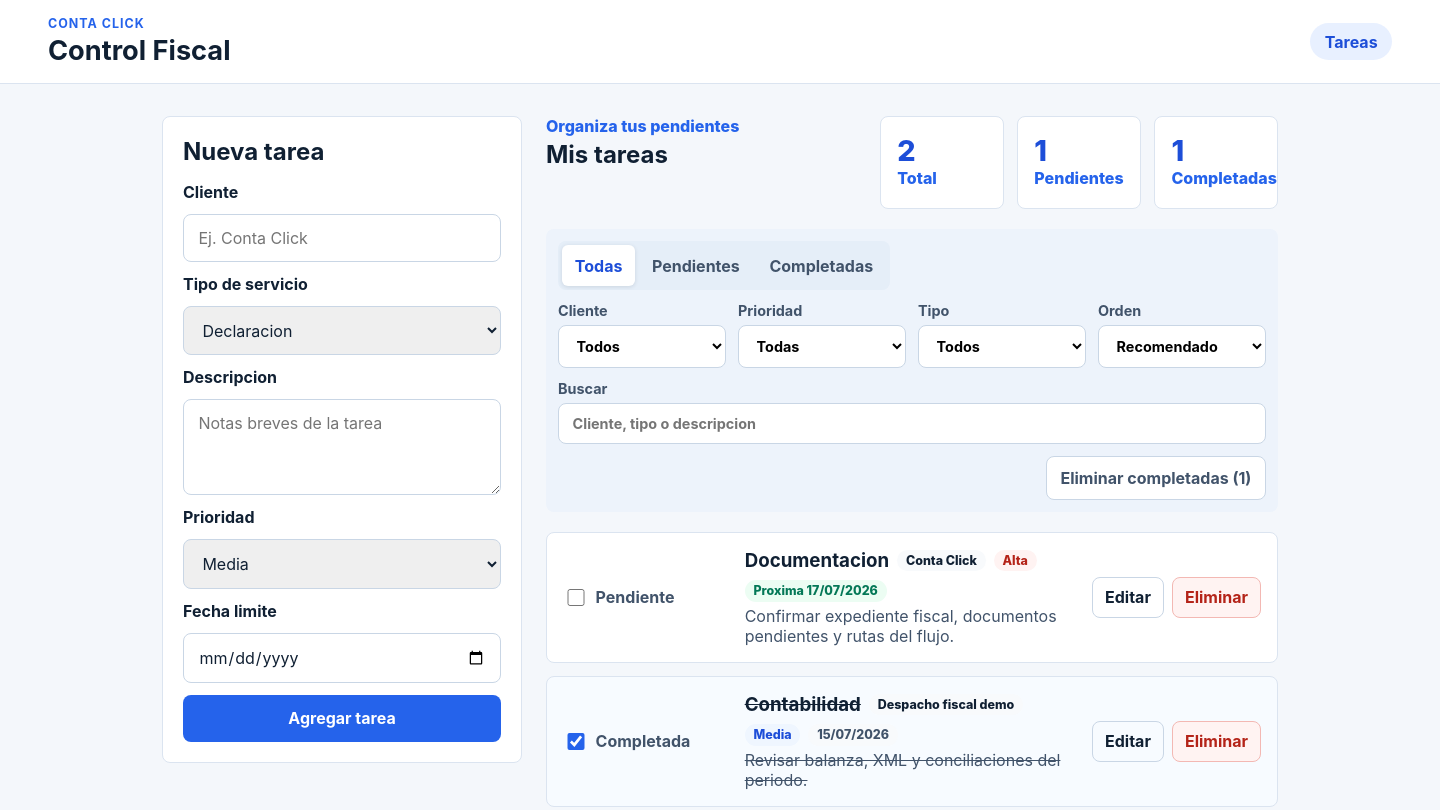
Test case: App › permite crear una tarea nueva
Type "Cliente Fiscal ABC" into the field with id "client". click: coordinates (342, 238)
box: x1=183 y1=214 x2=501 y2=262
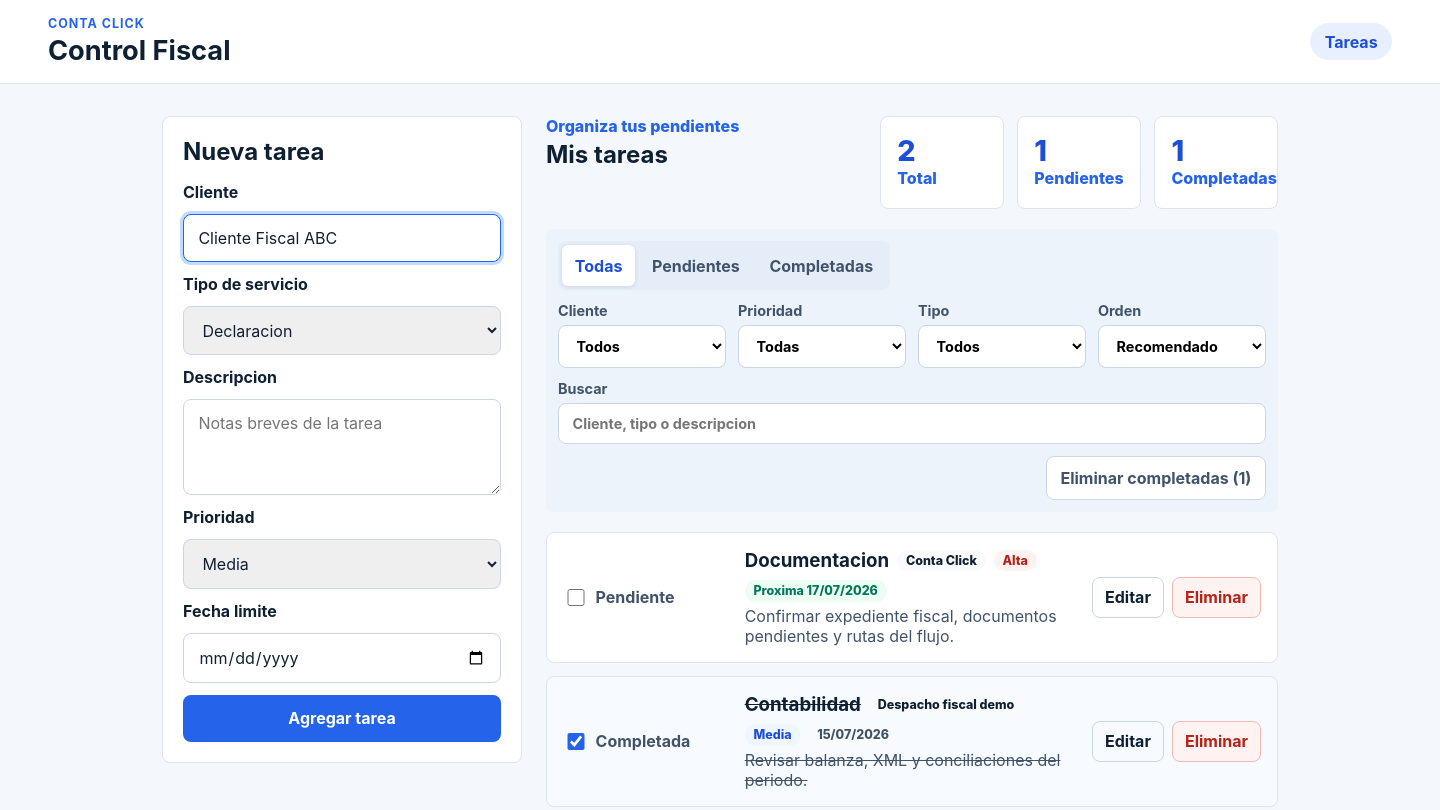
Select "Declaracion" in the dropdown with id "serviceType". click: coordinates (342, 331)
box: x1=183 y1=306 x2=501 y2=355
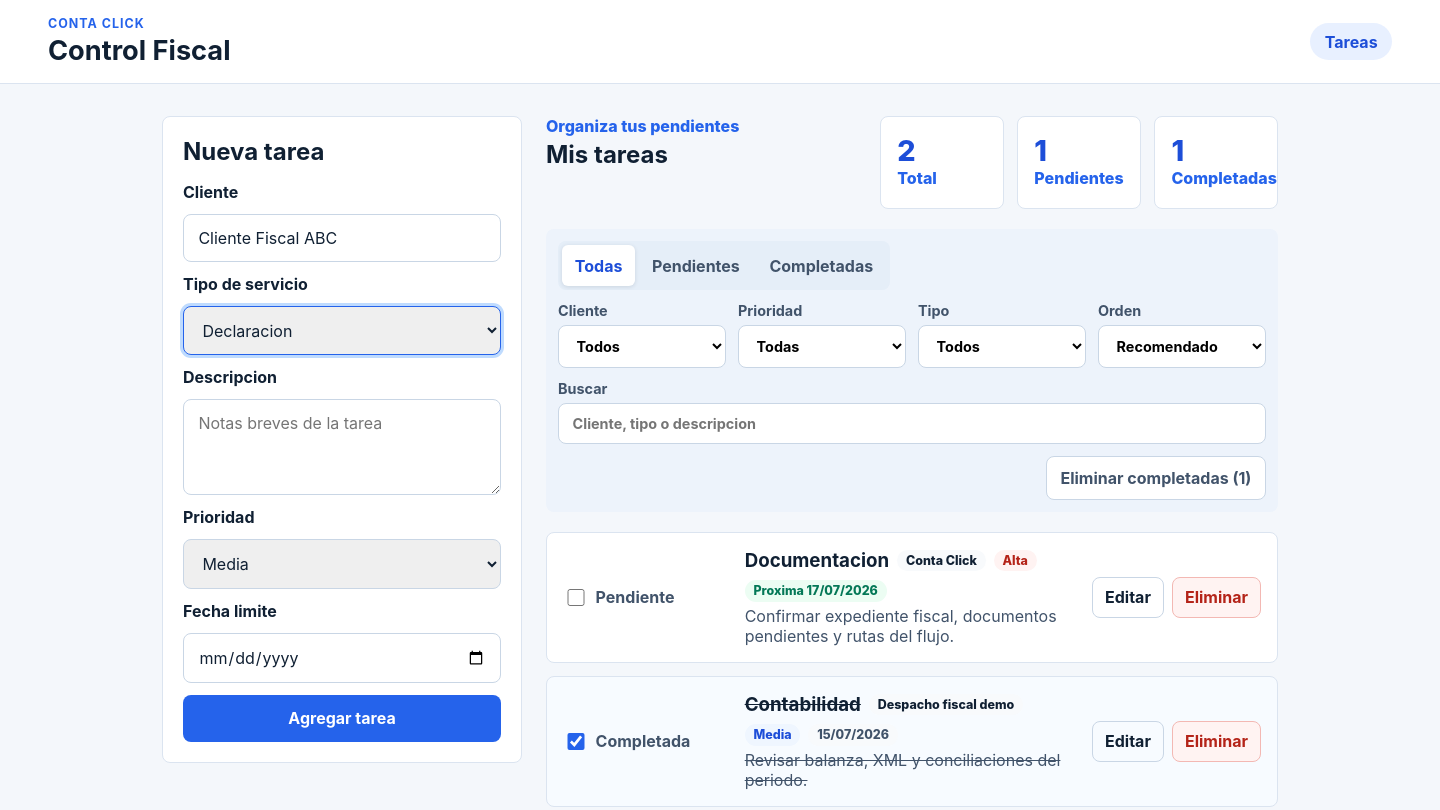
Type "Presentar declaracion mensual" into the text box with id "description". click: coordinates (342, 447)
box: x1=183 y1=399 x2=501 y2=495
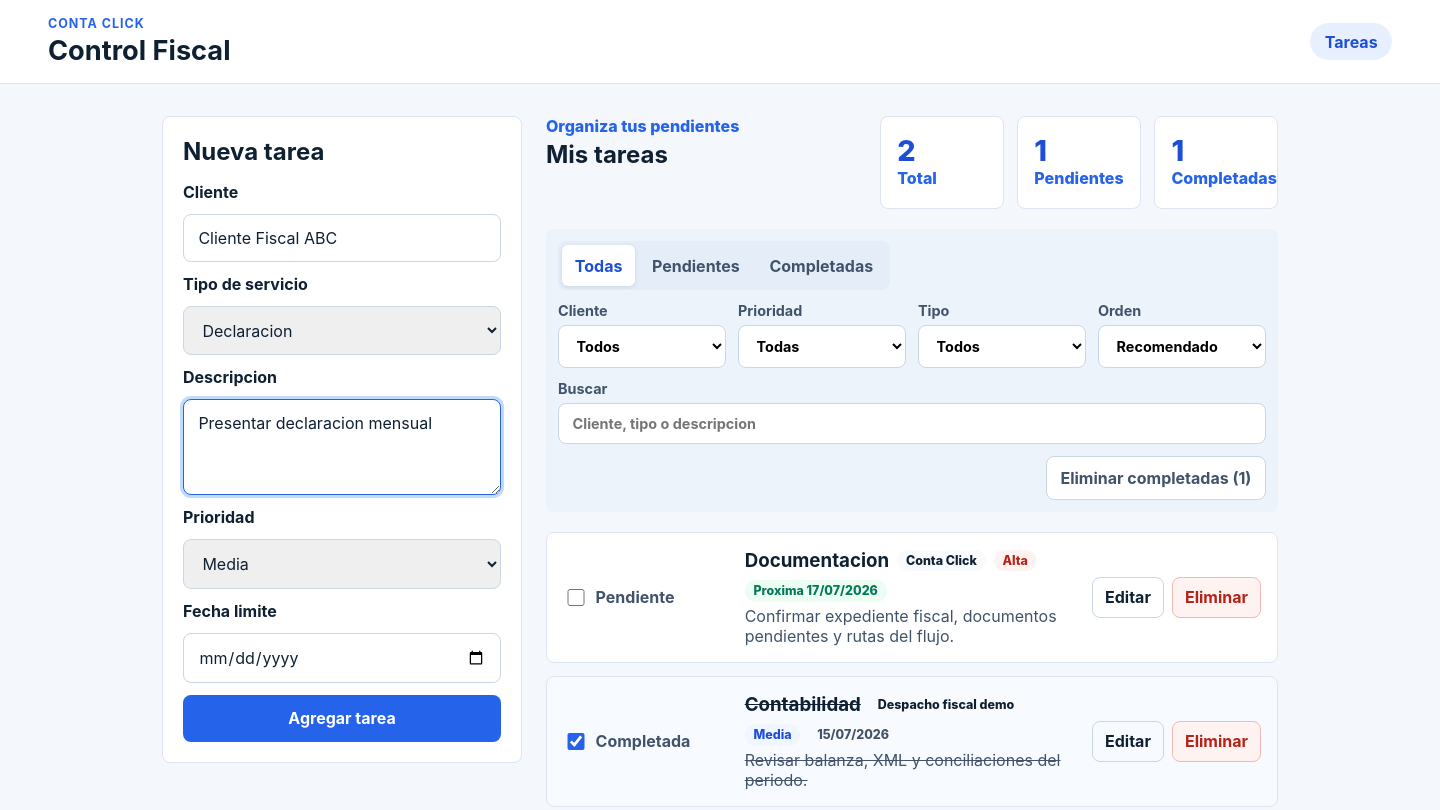
Select "Alta" in the dropdown labelled "Prioridad" below "Descripcion". click: coordinates (342, 564)
box: x1=183 y1=539 x2=501 y2=589
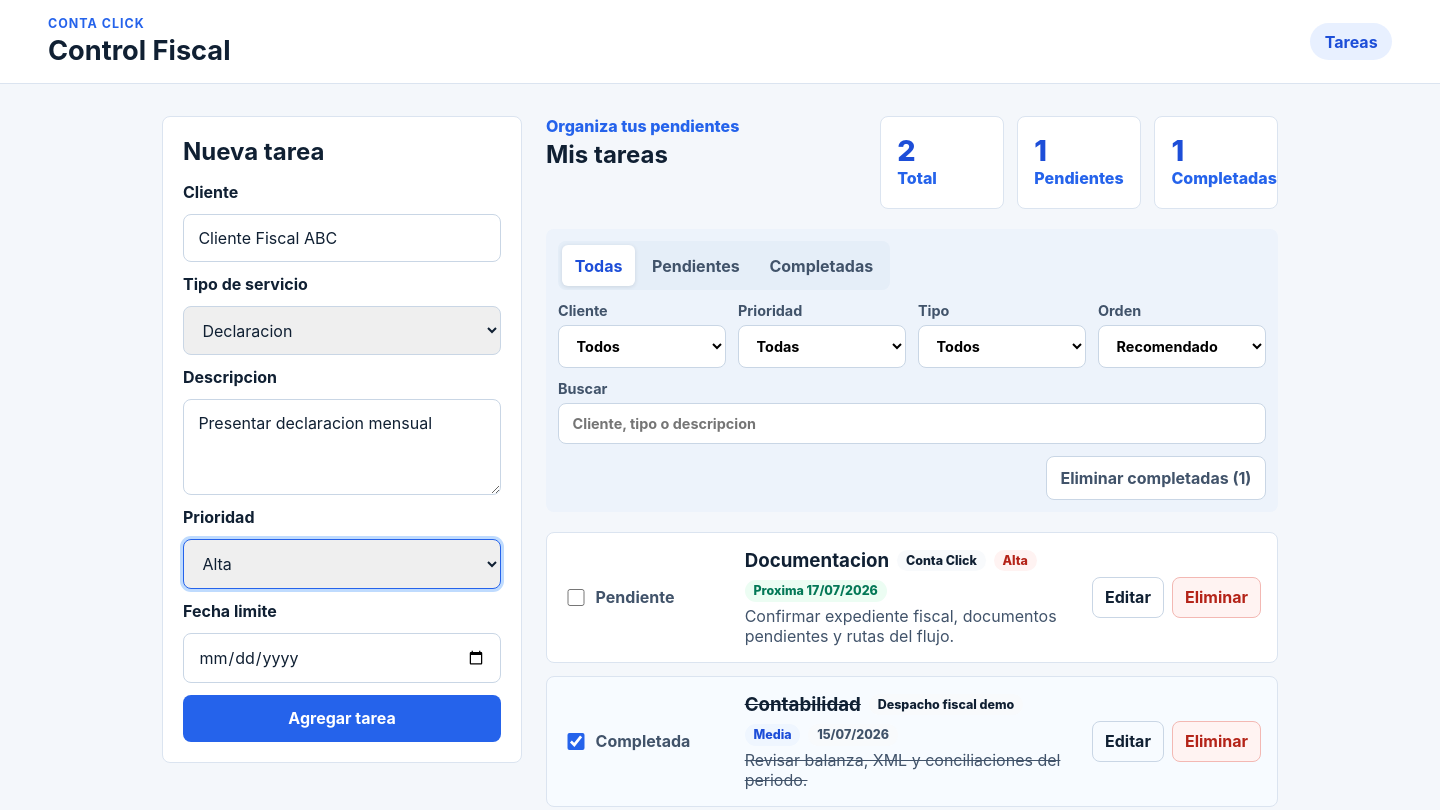
Type "2026-06-30" into the date field with id "dueDate". click: coordinates (342, 658)
box: x1=183 y1=633 x2=501 y2=683
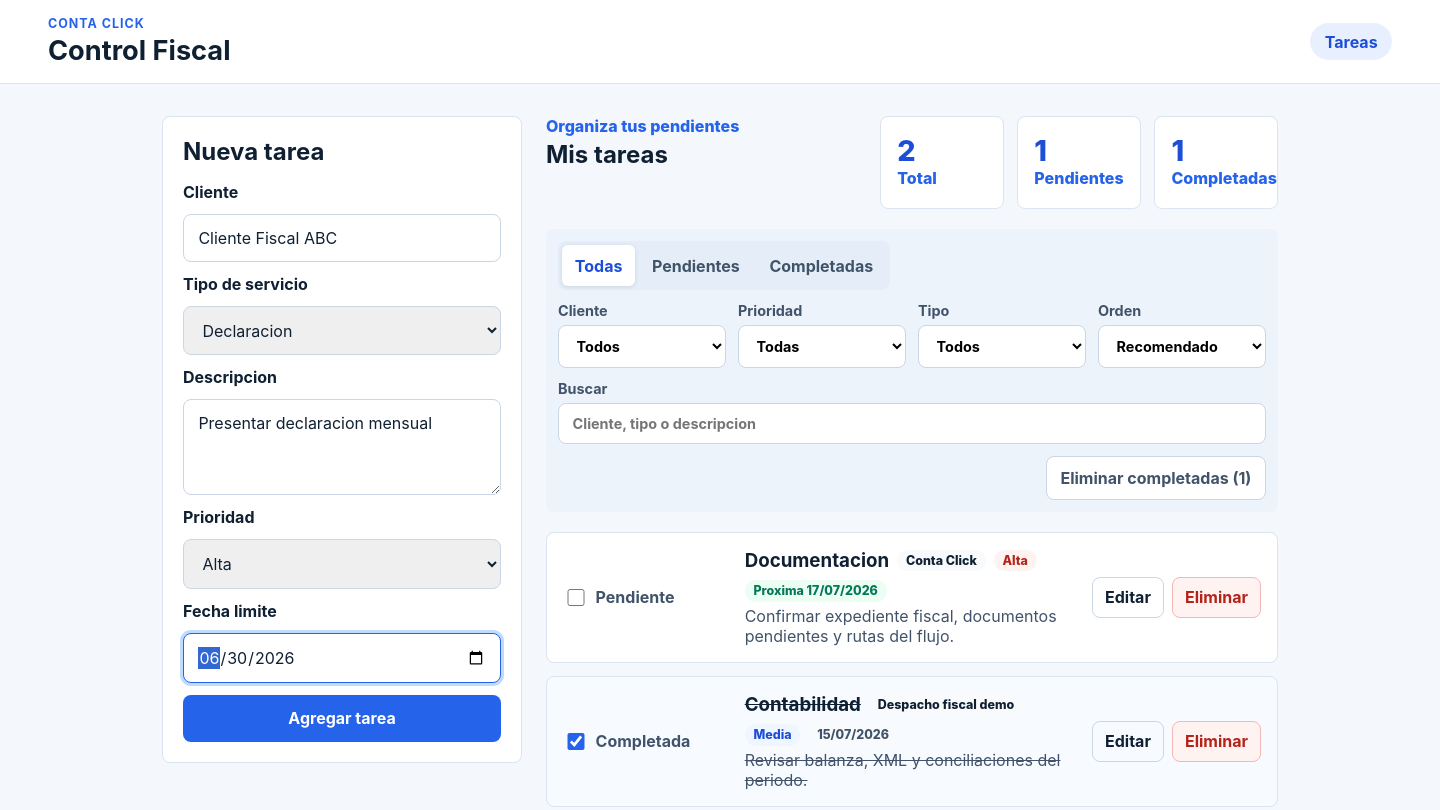
Click the button "Agregar tarea". click: coordinates (342, 718)
box: x1=183 y1=695 x2=501 y2=742
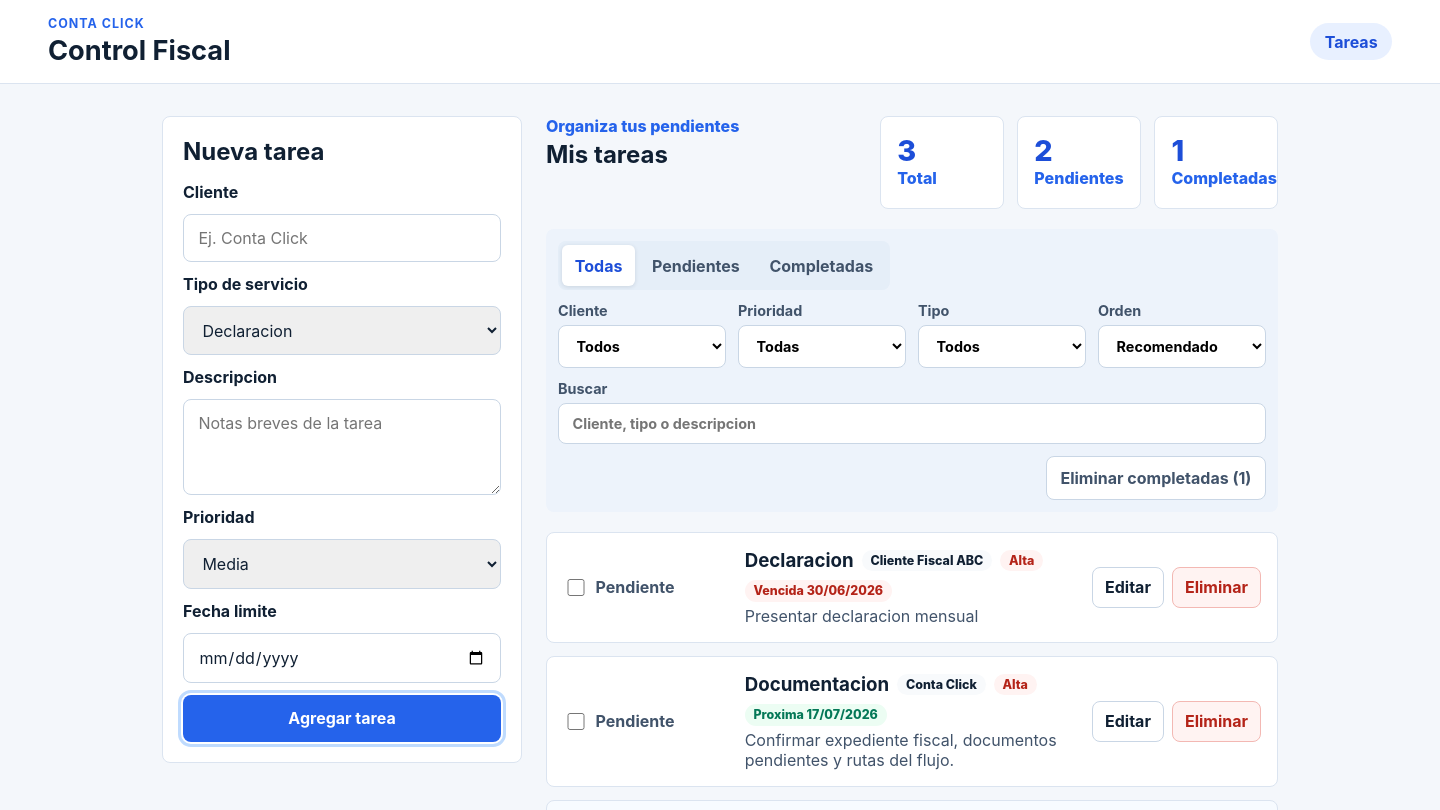
Expected: the text "Presentar declaracion mensual" is shown, x1=745 y1=606 x2=978 y2=626
Expected: the text "Vencida 30/06/2026" is shown, x1=745 y1=580 x2=892 y2=602
